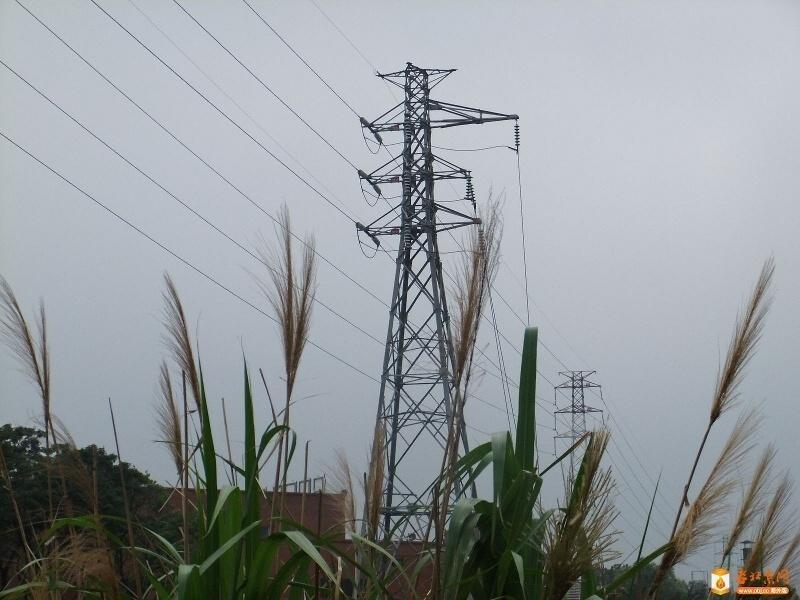power_tower: (356, 58, 522, 600), (549, 366, 610, 566), (713, 530, 742, 583)
